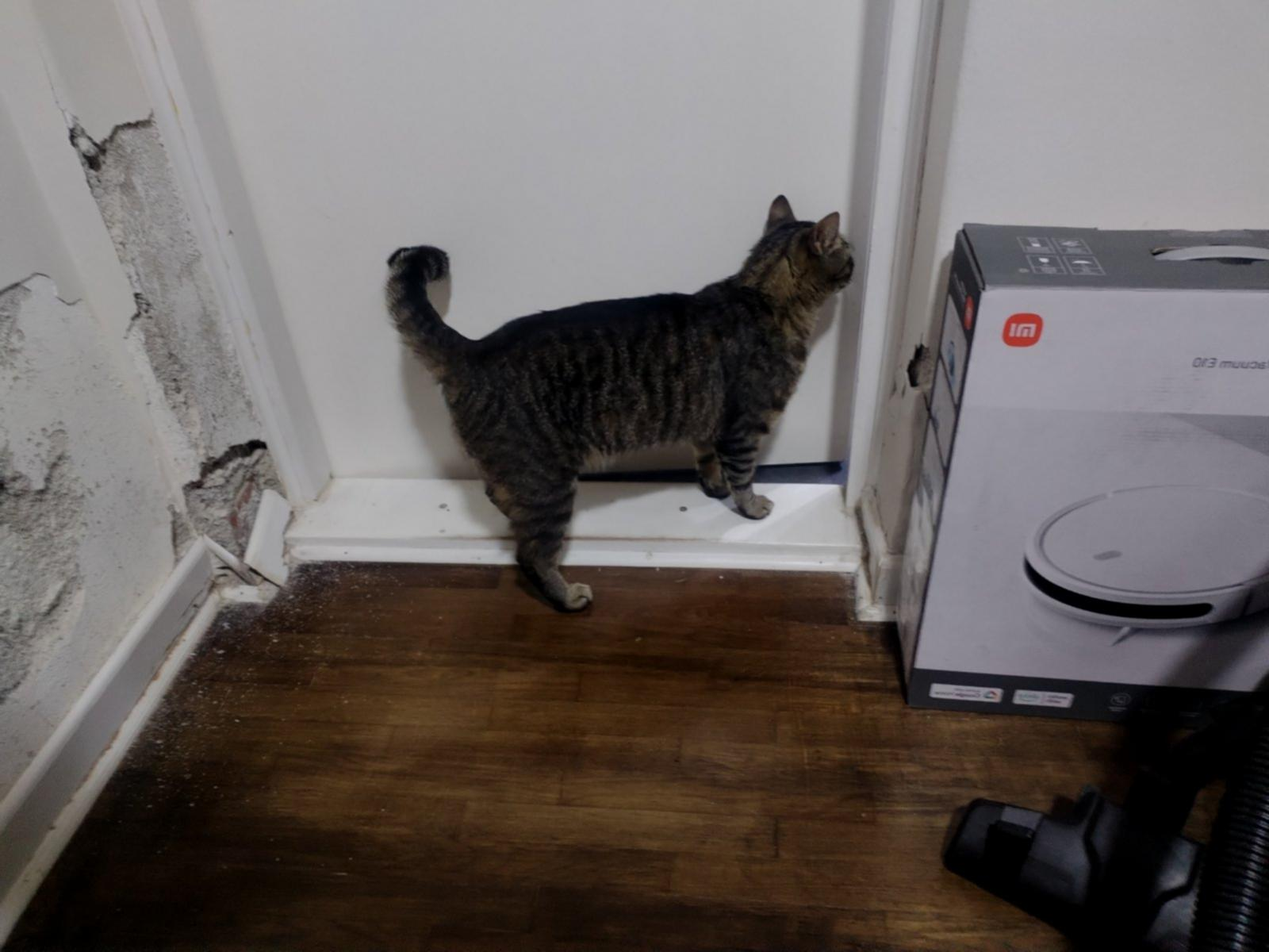macka: (381, 193, 851, 610)
